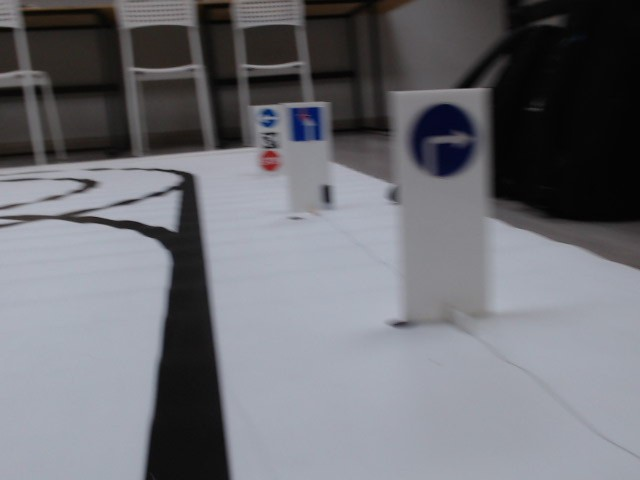Right: (408, 103, 480, 178)
Stop: (258, 150, 282, 171)
priority_movement: (288, 106, 326, 142)
